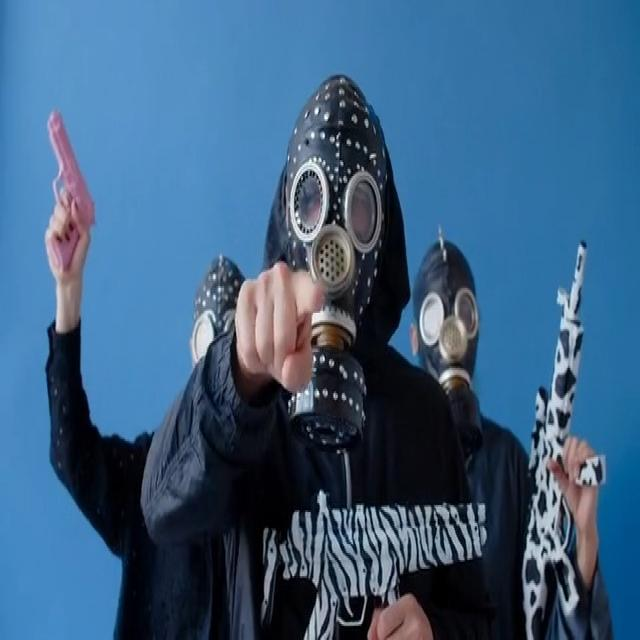Gun_Holder: (506, 220, 629, 640), (40, 112, 116, 300)
Person: (148, 60, 479, 640), (409, 202, 608, 640)
